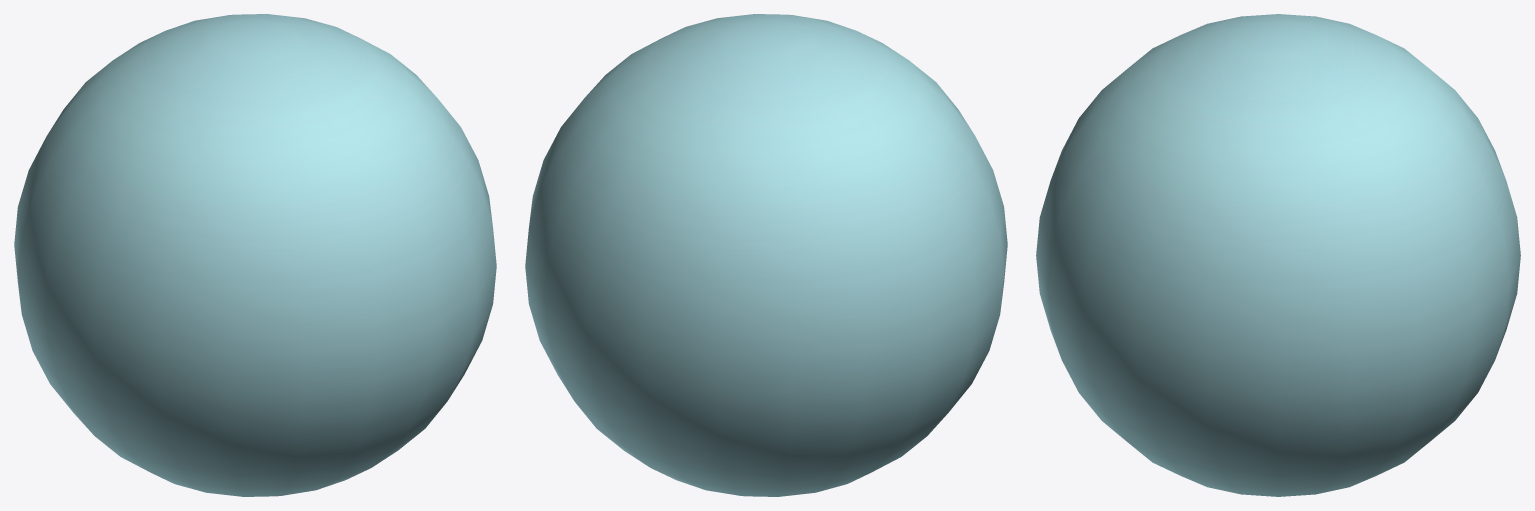
File: uranus.glb
The picture shows the model from 3 angles, left to right: view 1: azimuth 30°, elevation 25°; view 2: azimuth 150°, elevation 25°; view 3: azimuth 270°, elevation 25°; orthographic projection.
Parts seen in each view (by area): view 1: Esfera; view 2: Esfera; view 3: Esfera.
Part boxes in pixels (left/top/right/bottom): Esfera: left=14, top=14, right=496, bottom=496; Esfera: left=525, top=14, right=1007, bottom=496; Esfera: left=1036, top=14, right=1520, bottom=496.
Bounding box in the file's own units: 2 × 2 × 2.
1 material, 1 textured.
